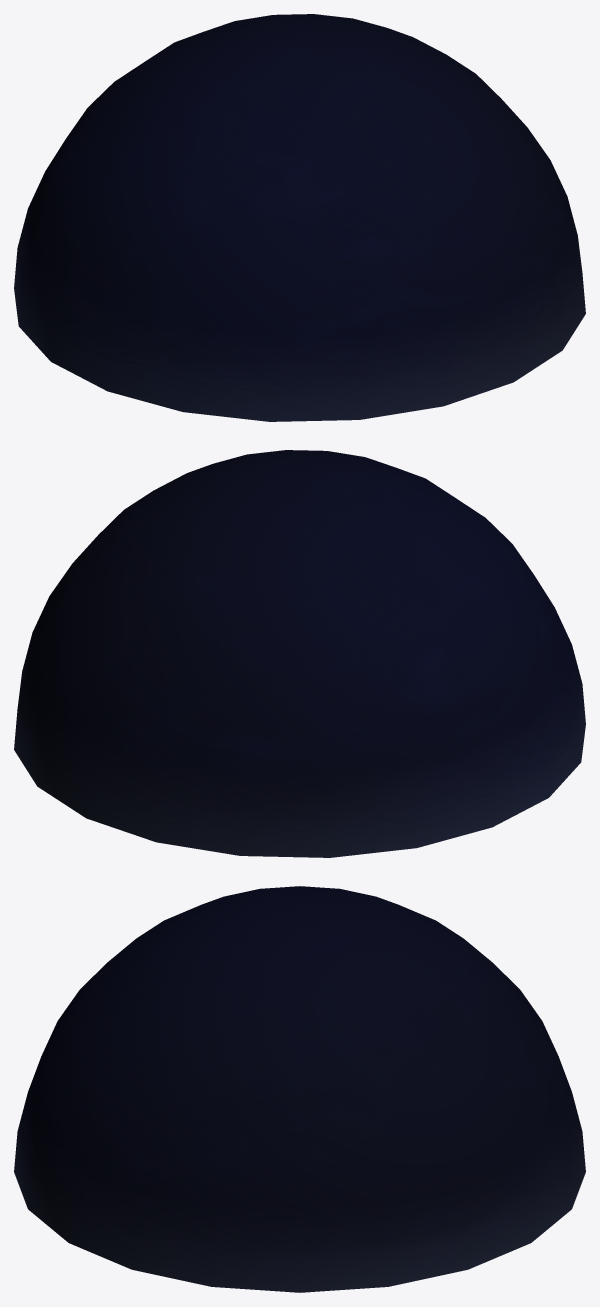
Rendered from sky_night.obj.
3 renders of one model, top to bottom at view 1: azimuth 30°, elevation 25°; view 2: azimuth 150°, elevation 25°; view 3: azimuth 270°, elevation 25°, orthographic.
Parts seen in each view (by area): view 1: pSphere1; view 2: pSphere1; view 3: pSphere1.
Boxes of the visible parts, x1,y1,x2,y2 form: pSphere1: [14, 14, 585, 421]; pSphere1: [14, 450, 585, 857]; pSphere1: [14, 886, 585, 1292].
Size of the model in its own units: 2 by 1 by 2.
